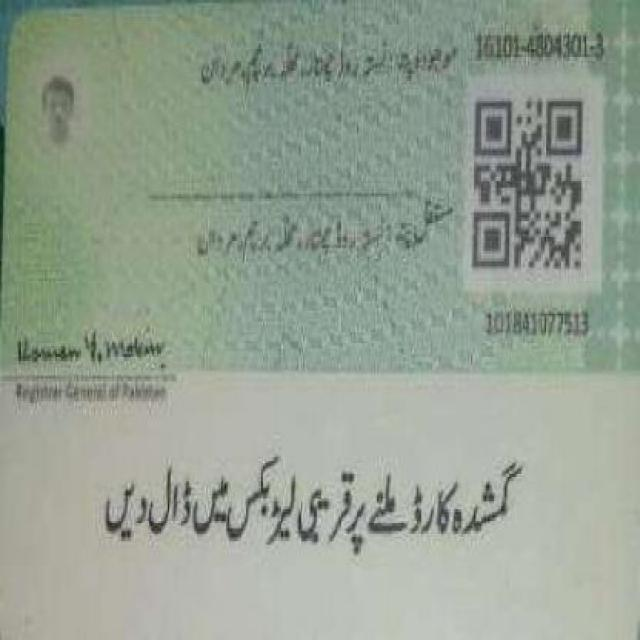Back: (4, 3, 634, 629)
